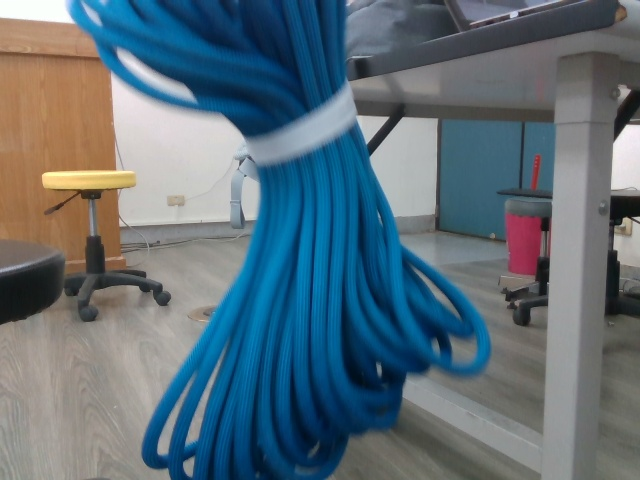rope: (60, 1, 497, 480)
